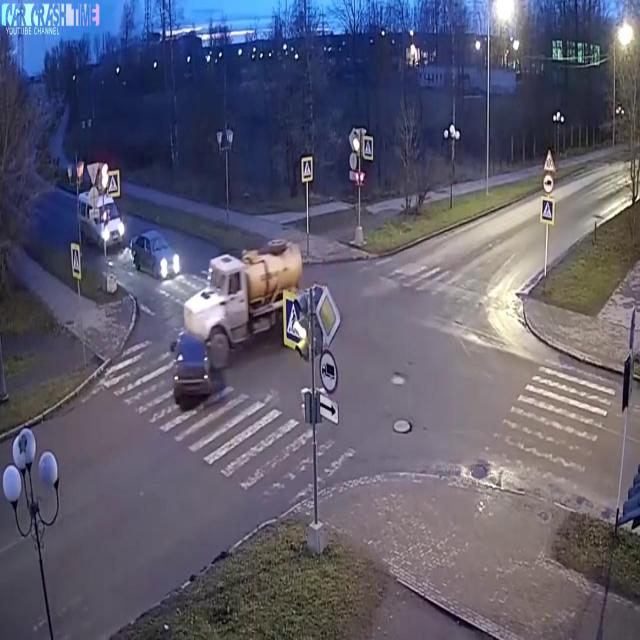accident: (162, 220, 329, 418)
